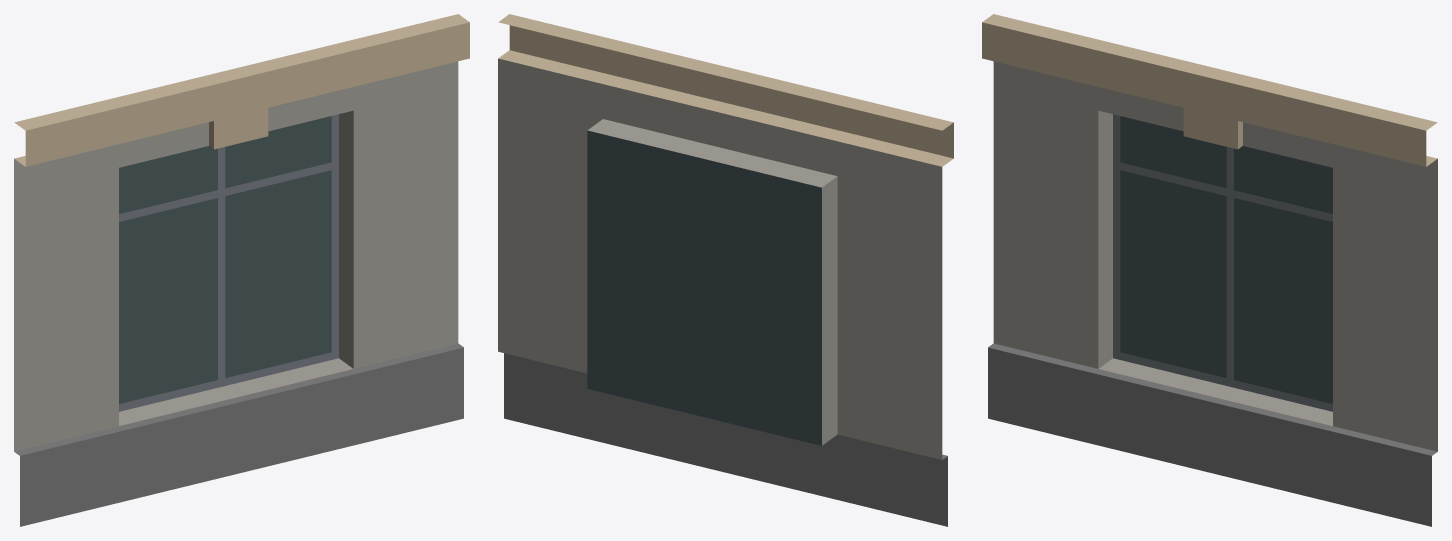
3 renders of one model, left to right at view 1: azimuth 30°, elevation 25°; view 2: azimuth 150°, elevation 25°; view 3: azimuth 330°, elevation 25°, orthographic.
Visible parts, largest first — view 1: a2019/250/base-w1; view 2: a2019/250/base-w1; view 3: a2019/250/base-w1.
Boxes of the visible parts, x1,y1,x2,y2 form: a2019/250/base-w1: [14, 14, 469, 526]; a2019/250/base-w1: [498, 14, 953, 526]; a2019/250/base-w1: [982, 14, 1437, 526].
Size of the model in its own units: 3.6 by 3.1 by 0.38.
